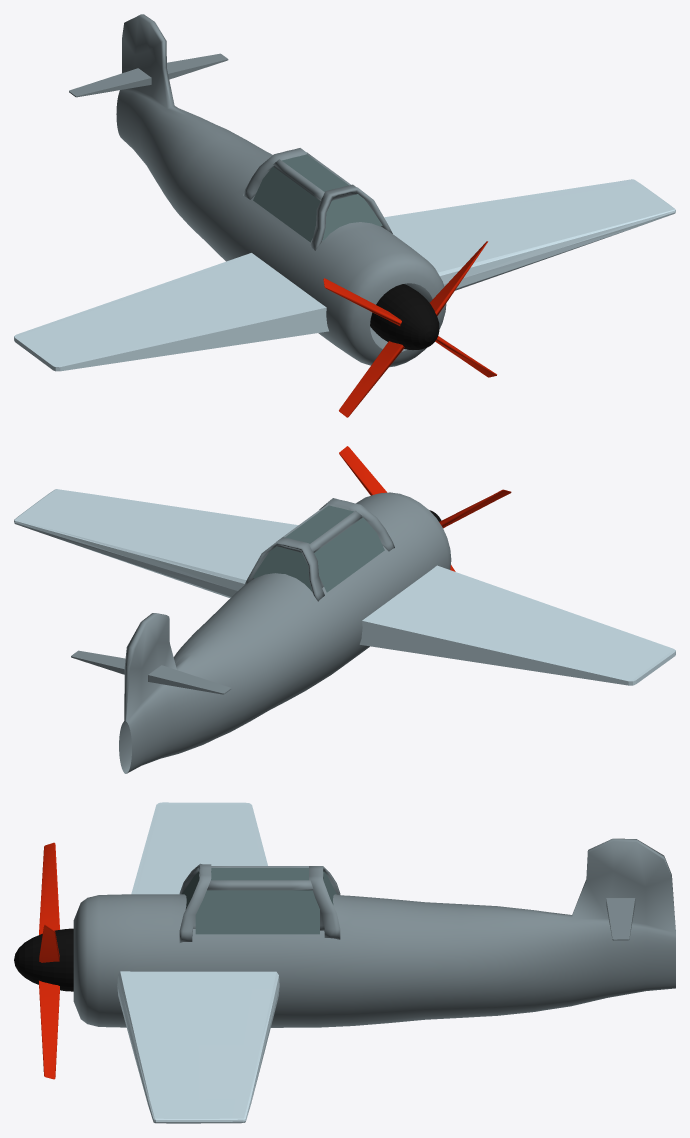
File: Fighter.dae
3 views of the same model, one above another, from view 1: azimuth 30°, elevation 25°; view 2: azimuth 150°, elevation 25°; view 3: azimuth 270°, elevation 25° (orthographic). The views are drawn at different scales.
Visible parts, largest first — view 1: Cylinder_001, Cube, Cube_001, Sphere, Cube_008, Plane, Plane_004, Cube_007, Cube_003, Plane_002, Cube_002, Cube_004 (+1 smaller); view 2: Cylinder_001, Cube, Cube_001, Plane, Cube_008, Plane_003, Cube_003, Plane_002, propeller, Cube_002, Cube_004; view 3: Cylinder_001, Cube_001, Cube, Plane_001, Cube_008, Sphere, Cube_006, Cube_004, Plane_002, Cube_002, propeller.
Part boxes in pixels (box(x1,y1,x2,y2)): Cylinder_001: box(116, 14, 446, 367); Cube: box(14, 253, 328, 371); Cube_001: box(384, 179, 675, 290); Sphere: box(370, 284, 439, 349); Cube_008: box(243, 148, 392, 250); Plane: box(253, 166, 320, 242); Plane_004: box(322, 194, 382, 240); Cube_007: box(339, 341, 404, 417); Cube_003: box(69, 68, 151, 97); Plane_002: box(282, 154, 348, 191); Cube_002: box(167, 53, 228, 79); Cube_004: box(323, 278, 401, 325); Cylinder_001: box(119, 492, 451, 773); Cube: box(359, 565, 675, 685); Cube_001: box(14, 489, 298, 598); Plane: box(314, 517, 384, 592); Cube_008: box(244, 498, 394, 601); Plane_003: box(252, 546, 312, 591); Cube_003: box(148, 665, 231, 694); Plane_002: box(285, 505, 353, 543); propeller: box(339, 446, 386, 495); Cube_002: box(71, 650, 125, 674); Cube_004: box(439, 489, 511, 528); Cylinder_001: box(73, 838, 675, 1027); Cube_001: box(117, 971, 279, 1123); Cube: box(131, 802, 267, 894); Plane_001: box(195, 890, 319, 934); Cube_008: box(179, 863, 340, 942); Sphere: box(14, 928, 73, 991); Cube_006: box(39, 980, 59, 1079); Cube_004: box(39, 842, 59, 934); Plane_002: box(211, 868, 308, 880); Cube_002: box(606, 898, 635, 940); propeller: box(39, 925, 59, 962).
Bounding box in the file's own units: 3.19 × 2.73 × 0.9182.
